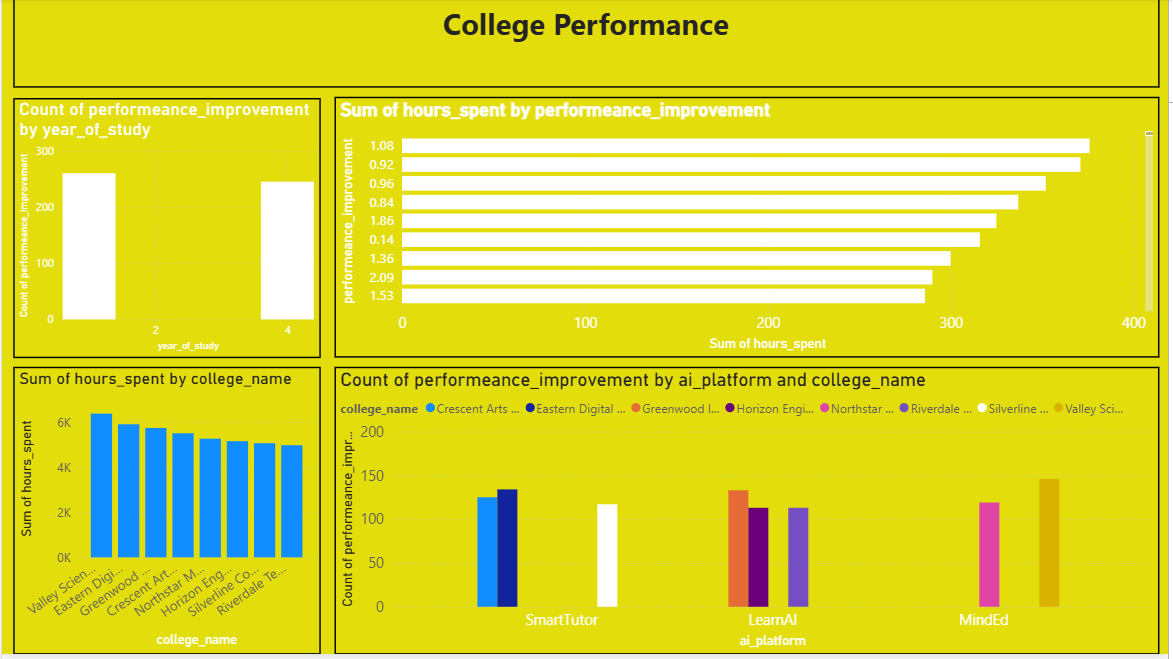

This screenshot's page, from the dashboard's own definition file:
{"tool":"powerbi","page":{"name":"Page 4","canvas":[1280,720],"ordinal":3},"visuals":[{"type":"lineClusteredColumnComboChart","fields":{"Category":["colleges.ai_platform"],"Y":["CountNonNull(performance.performeance_improvement)"],"Series":["colleges.college_name"]},"box":[365,404.8,905.7,315.6],"z":0},{"type":"columnChart","fields":{"Y":["CountNonNull(performance.performeance_improvement)"],"Category":["students.year_of_study"]},"box":[12.3,109.8,337.6,285.4],"z":1000},{"type":"clusteredBarChart","fields":{"Category":["performance.performeance_improvement"],"Y":["Sum(edtech_usage.hours_spent)"]},"box":[365,108.4,905.7,286.8],"z":2000},{"type":"columnChart","fields":{"Category":["colleges.college_name"],"Y":["Sum(edtech_usage.hours_spent)"]},"box":[12.3,404.8,337.6,315.6],"z":2001},{"type":"textbox","box":[12.3,0,1258.3,98.8],"z":2002}]}

Visuals, with their boxes in screenshot pixels (x1, y1, x2, y2), scaled from the page's 1280x720 canvas onto the 1173x659 screenshot:
lineClusteredColumnComboChart - colleges.ai_platform x CountNonNull(performance.performeance_improvement): l=334, t=371, r=1164, b=658
columnChart - CountNonNull(performance.performeance_improvement) x students.year_of_study: l=11, t=100, r=321, b=362
clusteredBarChart - performance.performeance_improvement x Sum(edtech_usage.hours_spent): l=334, t=99, r=1164, b=362
columnChart - colleges.college_name x Sum(edtech_usage.hours_spent): l=11, t=371, r=321, b=658
textbox: l=11, t=0, r=1164, b=90
